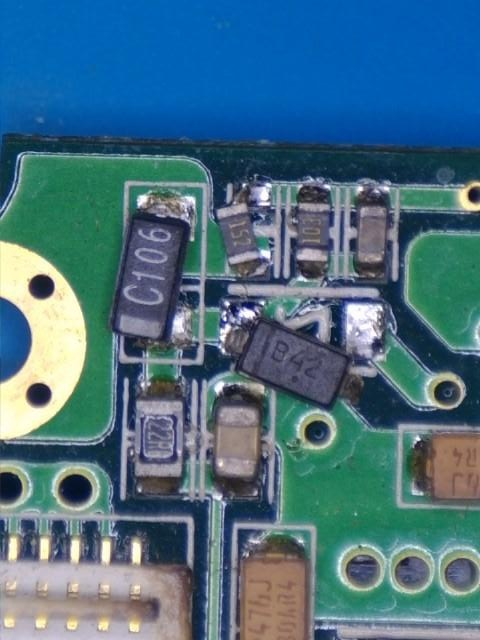pcb_defect: (219, 298, 385, 410), (111, 194, 195, 350), (215, 183, 273, 276)
